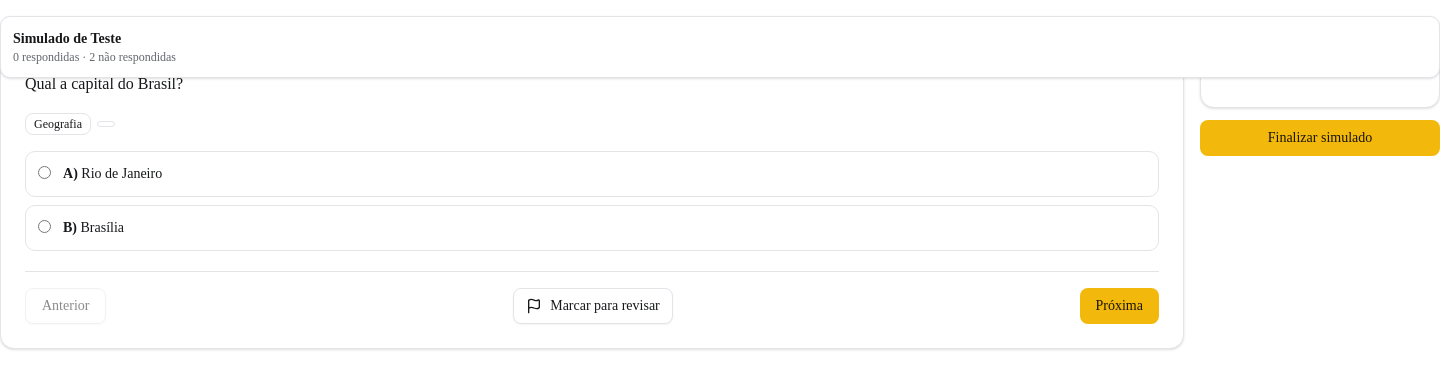
it: AttemptRunner — a11y durante a navegação do simulado › desabilita Anterior na primeira questão e Próxima na última
expect the button "Anterior" is disabled: met, box [25,288,106,324]
Click the button "Próxima" at [1119, 306], box [1080,288,1159,324]
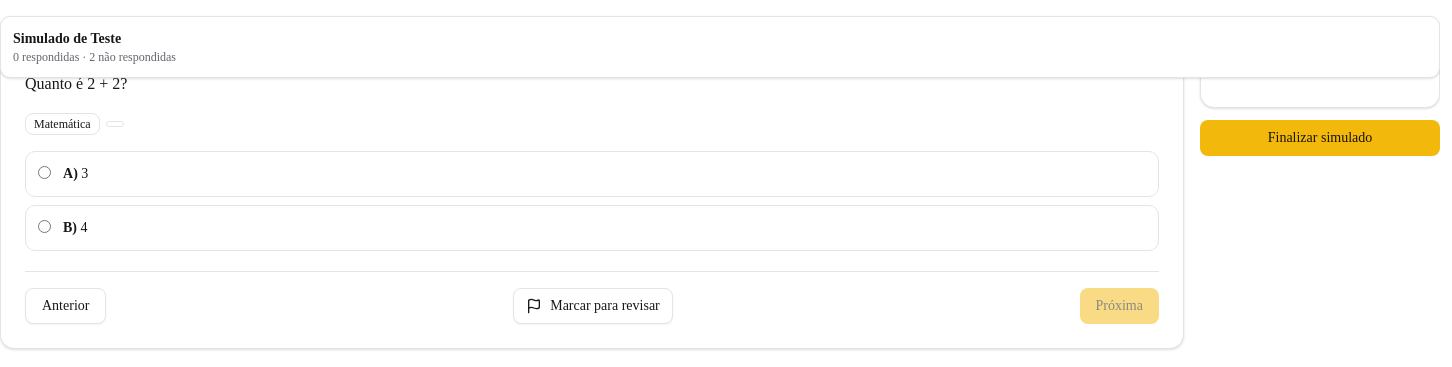
expect the button "Próxima" is disabled: met, box [1080,288,1159,324]
expect the button "Anterior" is enabled: met, box [25,288,106,324]
